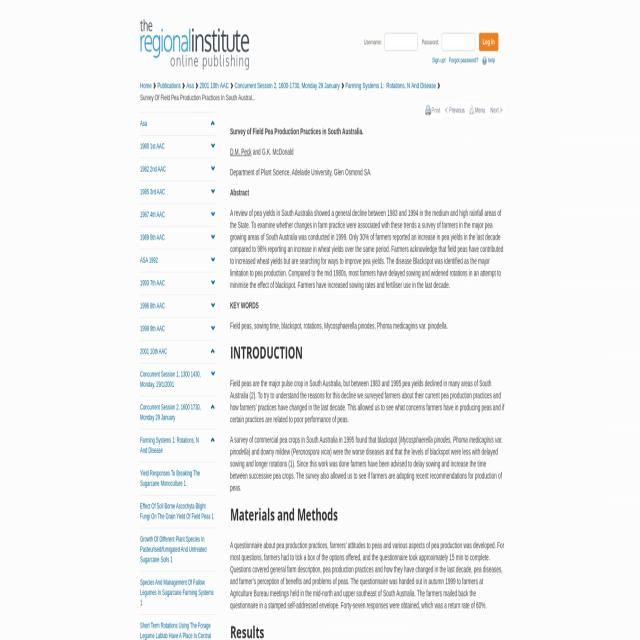button: (135, 14, 252, 75), (140, 528, 215, 571), (140, 571, 215, 614), (140, 396, 217, 429), (140, 429, 217, 462), (140, 364, 218, 396), (140, 462, 215, 495), (140, 495, 215, 528), (140, 614, 215, 640), (140, 135, 219, 158), (140, 249, 218, 272), (140, 340, 218, 363), (140, 181, 219, 203), (140, 204, 219, 226), (140, 226, 219, 248), (140, 273, 219, 295), (141, 113, 219, 135), (141, 158, 219, 180), (140, 295, 218, 317), (140, 318, 218, 340), (479, 33, 498, 51)
field: (384, 33, 418, 51), (441, 33, 475, 51)
